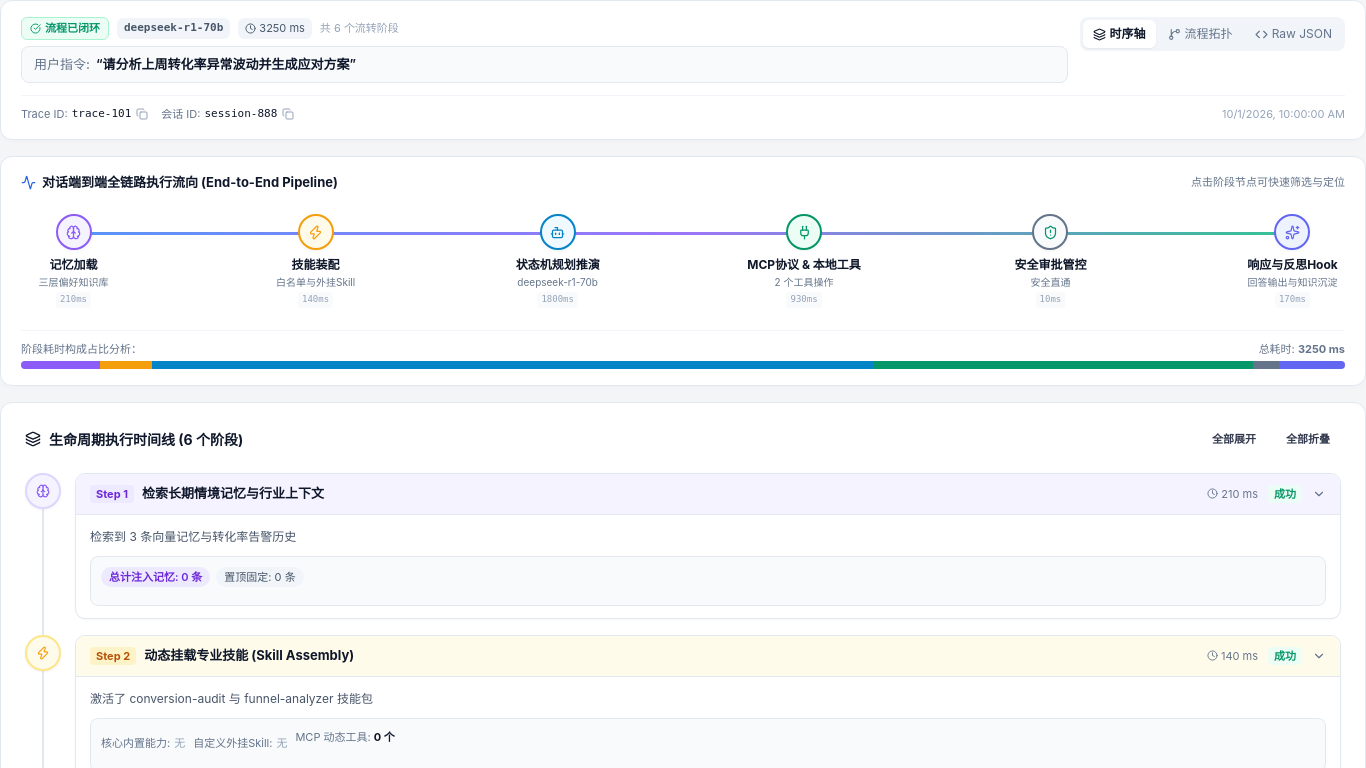
AgentTraceTimeline Component › switches between timeline, graph topology, and raw JSON modes
Expected: the text "检索长期情境记忆与行业上下文" is shown, [142, 484, 324, 504]
# Switch to graph view
What coordinates should you click on to do the following:
click the button "流程拓扑"
I would click on:
 (1200, 34)
Its box is [1158, 20, 1243, 48].
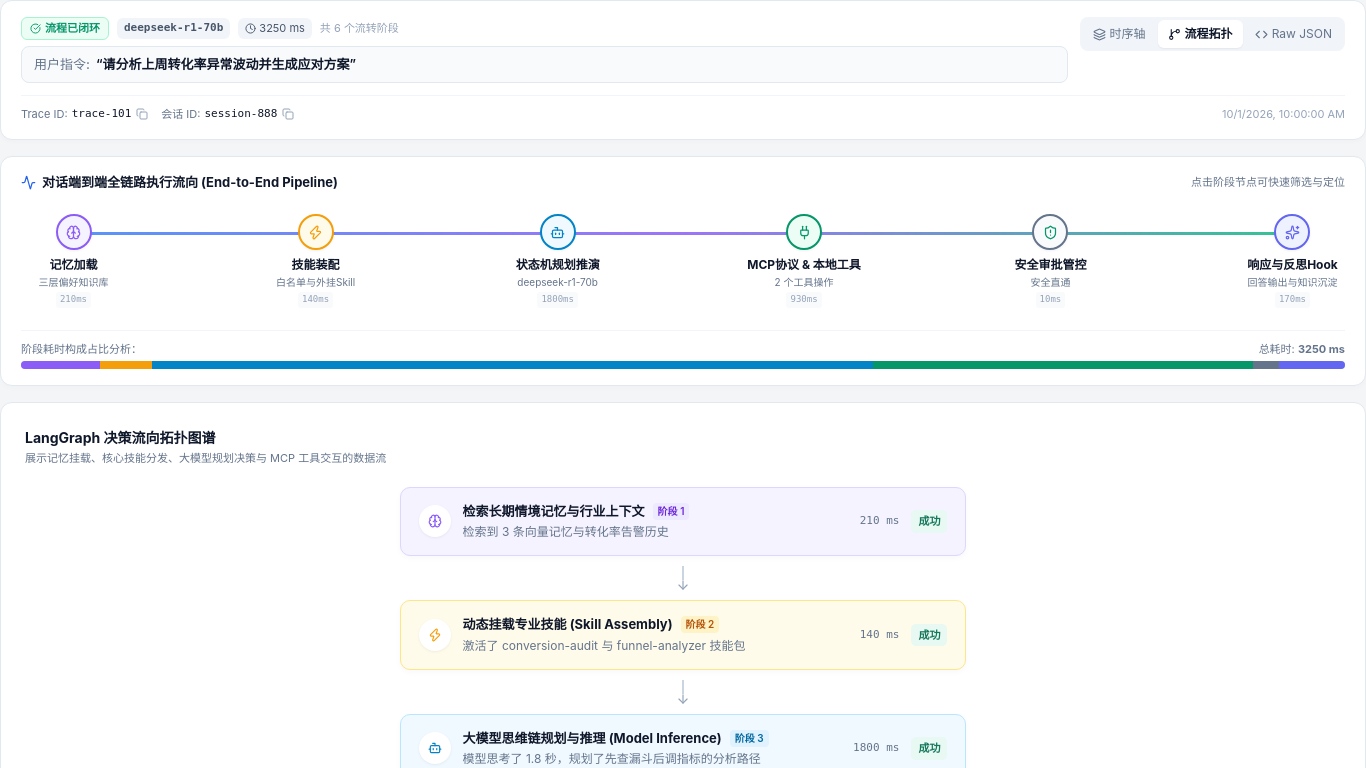
Expected: the heading "LangGraph 决策流向拓扑图谱" is shown, [25, 429, 216, 446]
# Switch to raw JSON view
What coordinates should you click on to do the following:
click the button "Raw JSON"
I would click on:
 (1293, 34)
Its box is [1245, 20, 1342, 48].
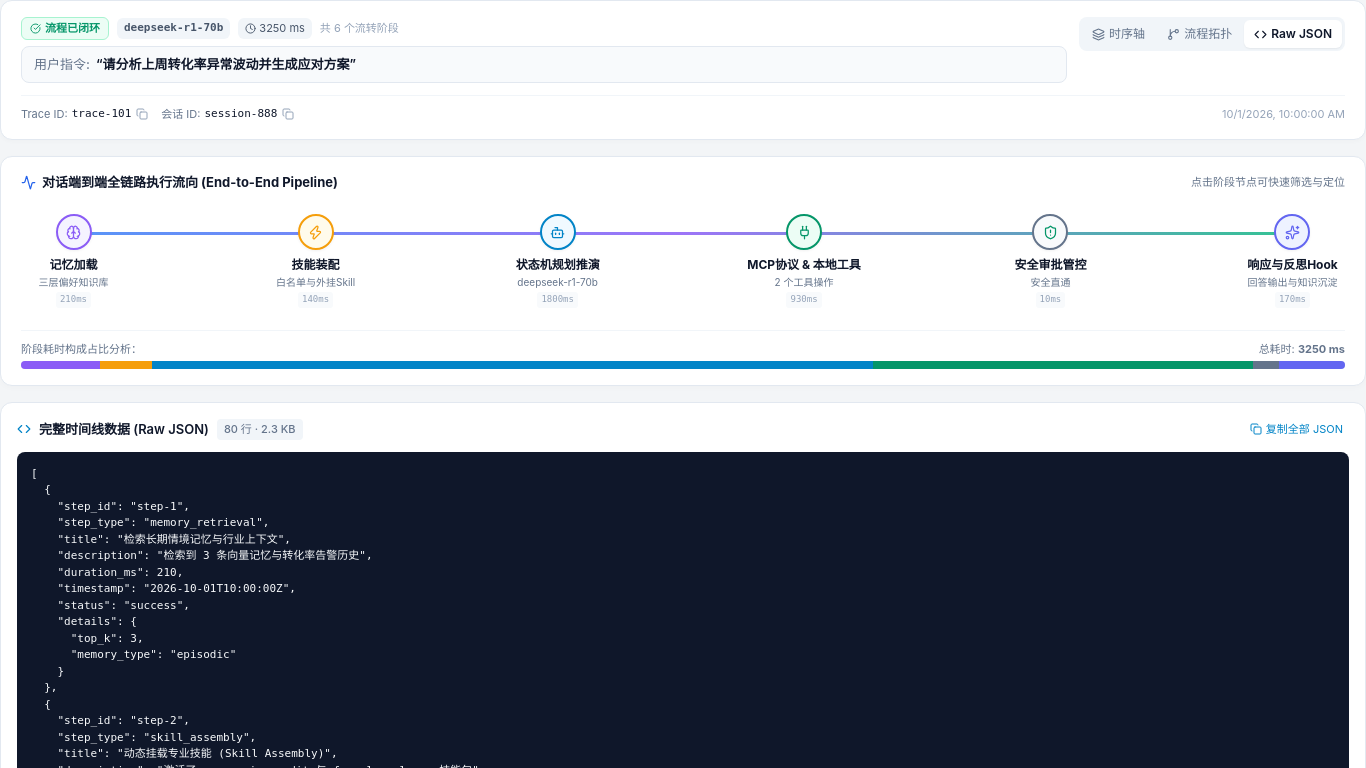
Expected: the text "完整时间线数据 (Raw JSON)" is shown, [39, 420, 209, 439]
